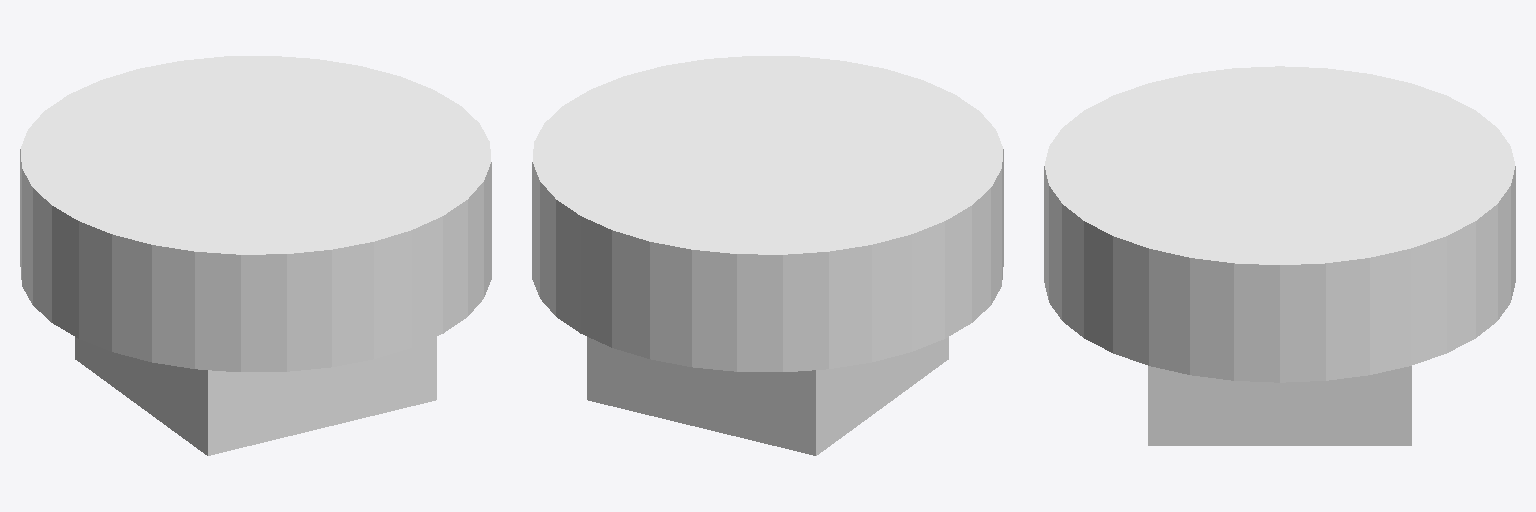
robot.urdf — circle.urdf:
<?xml version="1.0" ?>
<robot name="circle.urdf">

  <link name="base">
    <contact>
    	<friction_anchor/>
    	<lateral_friction value="1.0"/>
    </contact>
    <inertial>
      <origin rpy="0 0 0" xyz="0 0 0"/>
       <mass value=".1"/>
       <inertia ixx="1" ixy="0" ixz="0" iyy="1" iyz="0" izz="1"/>
    </inertial>
    <visual>
      <origin rpy="0 0 0" xyz="0 0 0"/>
      <geometry>
				<box size="0.056 0.056 0.025"/>
      </geometry>
       <material name="white">
        <color rgba="1.0 1.0 1.0 1"/>
      </material>
    </visual>
    <collision>
      <origin rpy="0 0 0" xyz="0 0 0"/>
      <geometry>
        <box size="0.056 0.056 0.025"/>
      </geometry>
    </collision>
  </link>

  <link name="circle">
    <contact>
    	<friction_anchor/>
    	<lateral_friction value="1.0"/>
    </contact>
    <inertial>
      <origin rpy="0 0 0" xyz="0 0 0.01375"/>
       <mass value=".1"/>
       <inertia ixx="1" ixy="0" ixz="0" iyy="1" iyz="0" izz="1"/>
    </inertial>
    <visual>
      <origin rpy="0 0 0" xyz="0 0 0.01375"/>
      <geometry>
				<cylinder radius="0.05" length="0.0275"/>
      </geometry>
      <material name="white">
       <color rgba="1.0 1.0 1.0 1"/>
     </material>
    </visual>
    <collision>
      <origin rpy="0 0 0" xyz="0 0 0.01375"/>
      <geometry>
        <cylinder radius="0.05" length="0.0275"/>
      </geometry>
    </collision>
  </link>

  <joint name="base_joint" type="fixed">
     <origin xyz="0 0 0.0125" rpy="0 0 0"/>
     <axis xyz="0 0 1"/>
     <parent link="base"/>
     <child link="circle"/>
  </joint>

</robot>

--- What the picture shows (computed from the rendered views, not written in the file) ---
3 views of the same robot in one strip: view 1: azimuth 30°, elevation 25°; view 2: azimuth 150°, elevation 25°; view 3: azimuth 270°, elevation 25° (orthographic).
Robot: circle.urdf — 2 links, 1 joints (1 fixed); root link base; default pose: all joints at 0.
Links seen in each view (by area): view 1: circle, base; view 2: circle, base; view 3: circle, base.
Link boxes in pixels (x1,y1,x2,y2): circle: (20, 56, 491, 371); base: (75, 337, 436, 455); circle: (532, 56, 1003, 371); base: (587, 337, 948, 455); circle: (1044, 66, 1515, 382); base: (1148, 366, 1411, 445).
Size in the robot's own frame: 0.1 by 0.1 by 0.0525 metres.
Geometry: primitives only (box / cylinder / sphere), no mesh files.